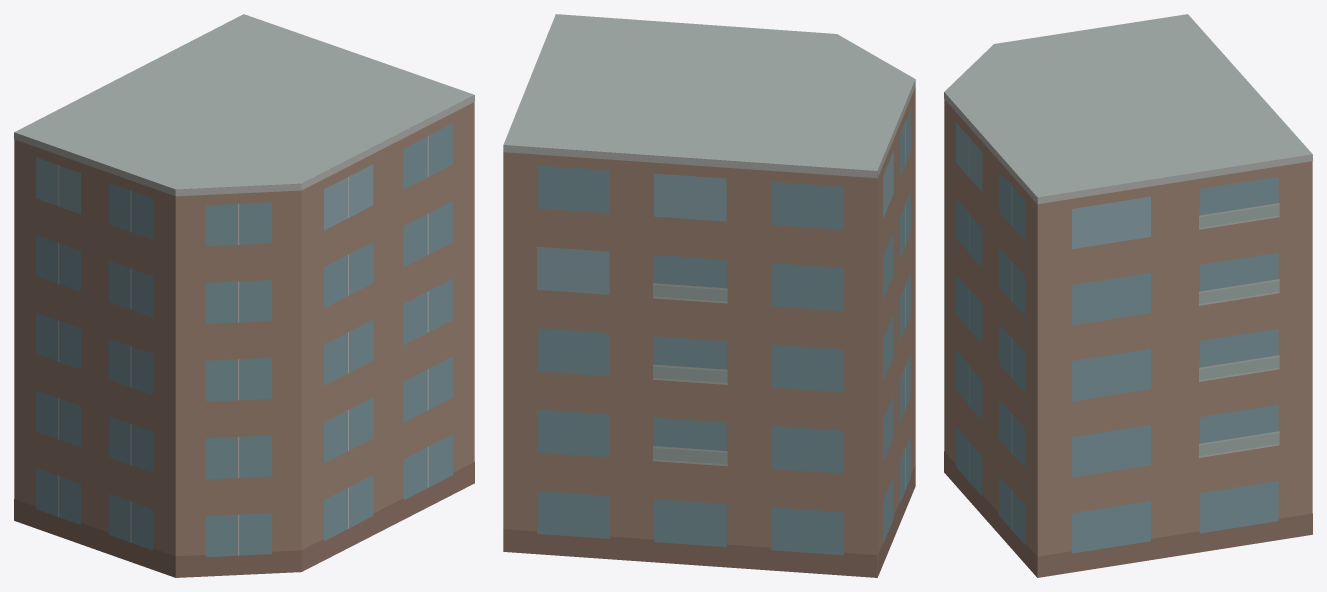
Rendered from survey-upis-32851976.glb.
3 views of the same model, side by side, from view 1: azimuth 30°, elevation 25°; view 2: azimuth 150°, elevation 25°; view 3: azimuth 270°, elevation 25° (orthographic). The views are drawn at different scales.
Visible parts, largest first — view 1: survey-upis-32851976.tmp; view 2: survey-upis-32851976.tmp; view 3: survey-upis-32851976.tmp.
Boxes of the visible parts, x1,y1,x2,y2 form: survey-upis-32851976.tmp: (14,14,474,577); survey-upis-32851976.tmp: (503,14,915,577); survey-upis-32851976.tmp: (944,14,1312,577).
Size of the model in its own units: 14.18 by 13.7 by 12.04.
